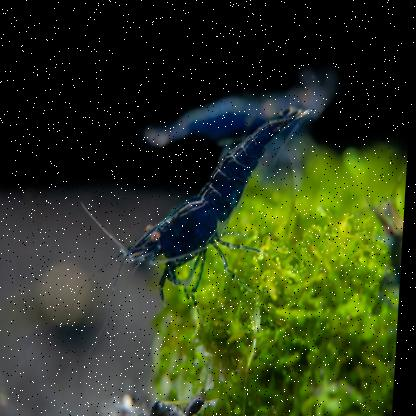shrimp: (127, 105, 312, 288)
